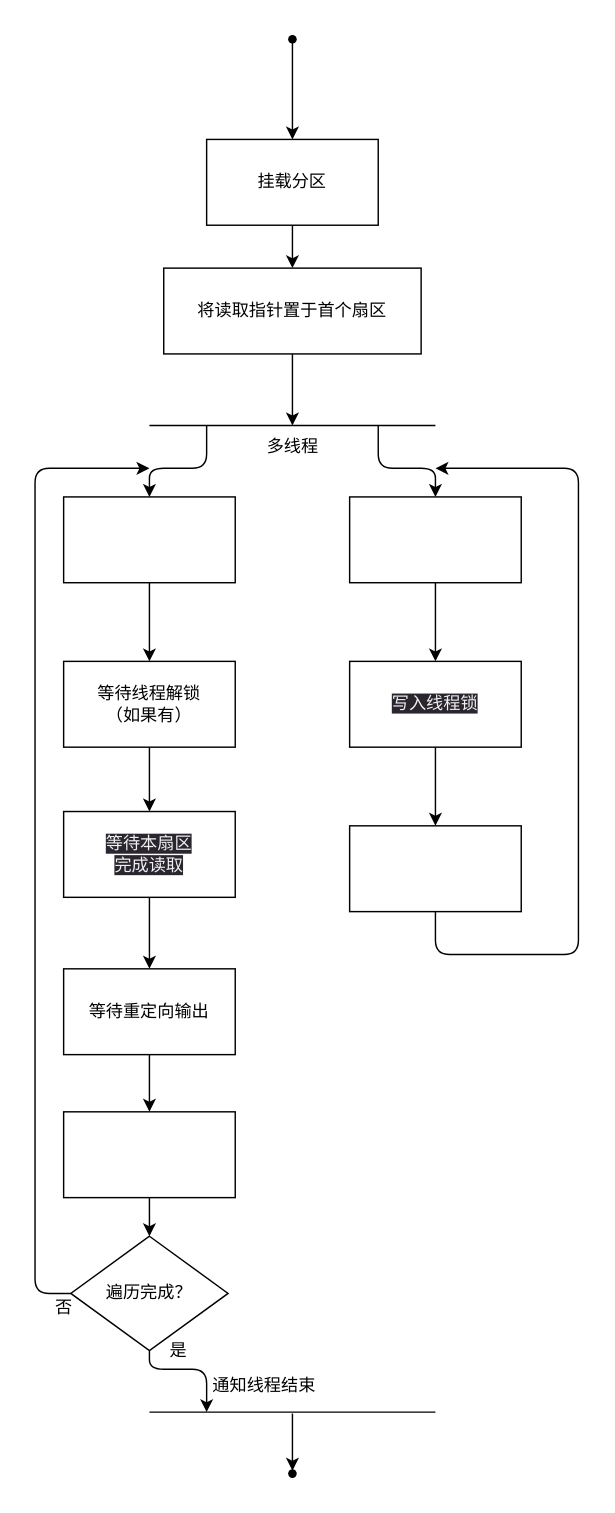
Image size: 615x1513. Some labels were removed from this diagram. Each missing label, with the centre of its shape:
"文件重切分" goes at pixel 434 868.
"等待缓冲续满" goes at pixel 434 539.
"读取数据，存入缓冲" goes at pixel 148 539.
"重定向 写入操作" goes at pixel 148 1154.
